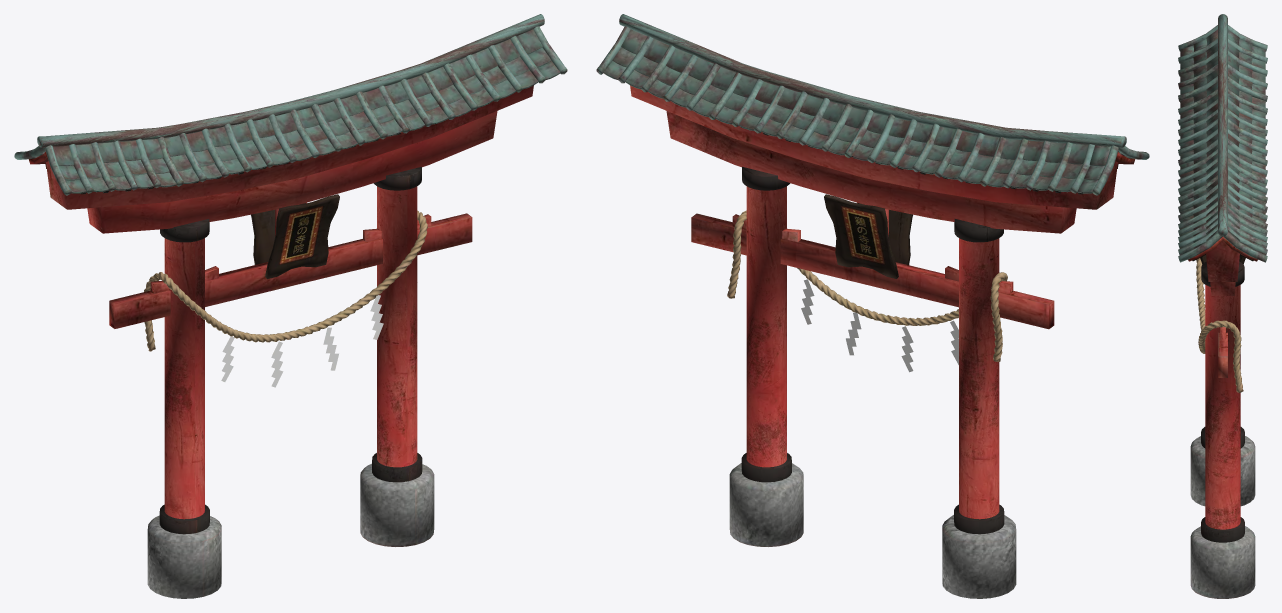
The model's file is jp-torii.glb.
3 renders of one model, left to right at view 1: azimuth 30°, elevation 25°; view 2: azimuth 150°, elevation 25°; view 3: azimuth 270°, elevation 25°, orthographic. The views are drawn at different scales.
Parts seen in each view (by area): view 1: Cube.014; view 2: Cube.014; view 3: Cube.014.
Part boxes in pixels (x1=…): Cube.014: x1=14, y1=14, x2=567, y2=598; Cube.014: x1=596, y1=14, x2=1149, y2=598; Cube.014: x1=1178, y1=14, x2=1267, y2=598.
Bounding box in the file's own units: 871 × 797 × 155.
Materials: 1 (1 with a texture image).
